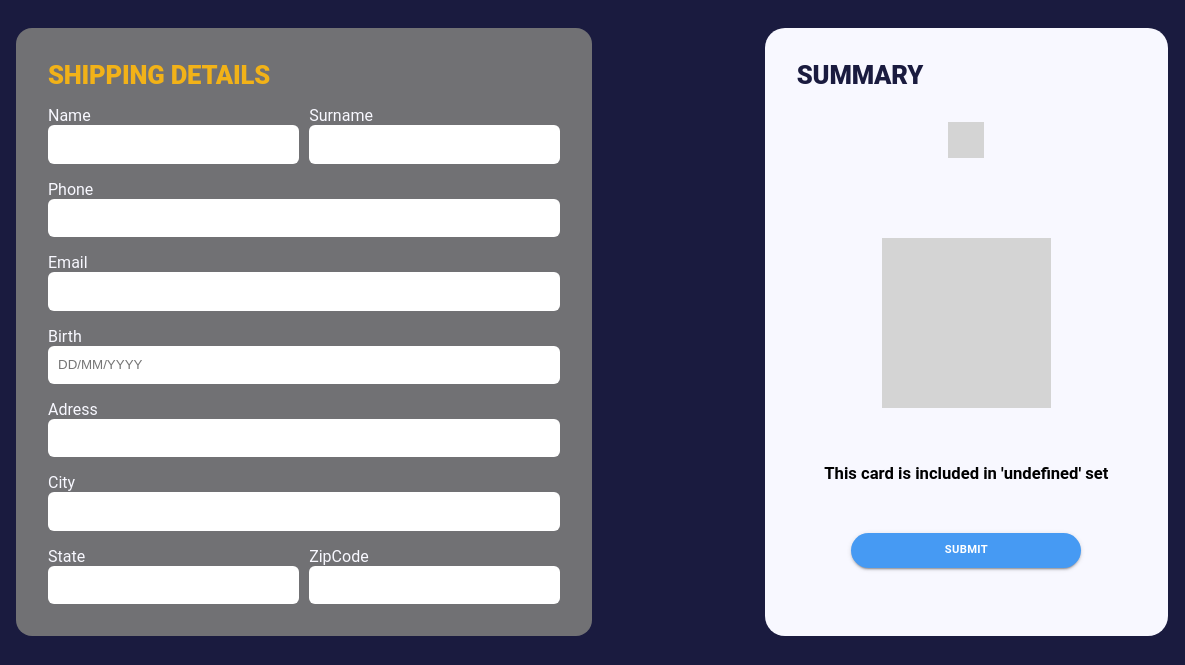
Scenario: form › validation › zipCode › shows error when zip code is not only numbers
Type "12345a" into the field labelled "zipCode" at x=435, y=585, box [309,566,560,604]
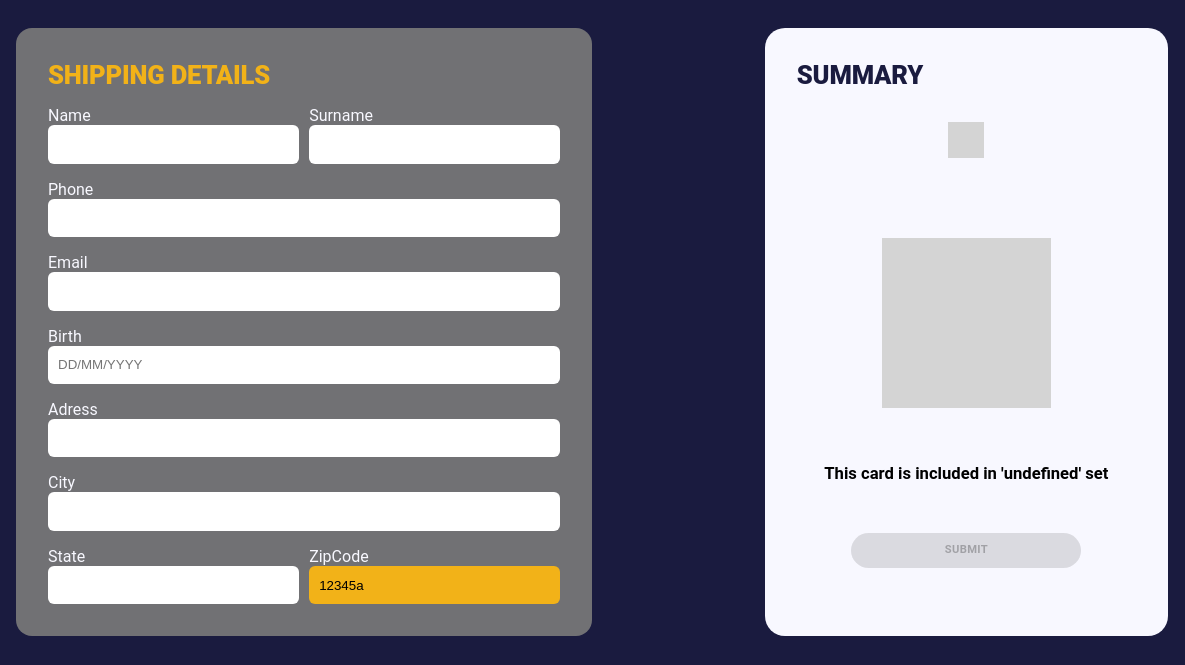
Press Tab
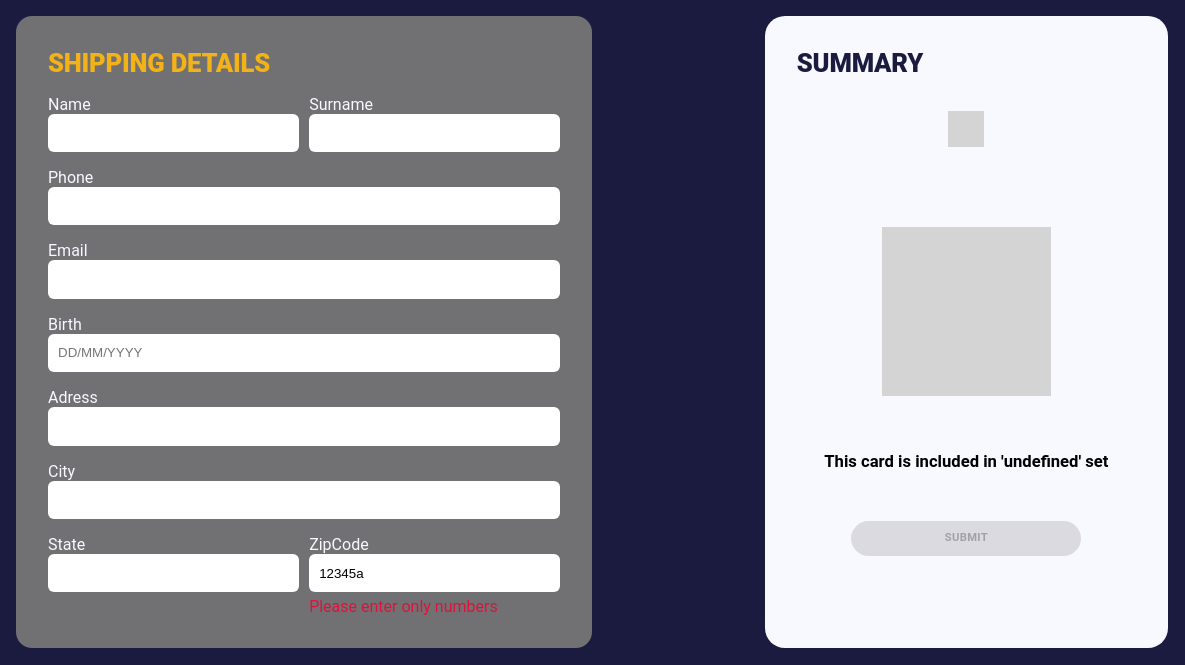
Expected: the text "Please enter only numbers" is shown, [309,597,498,616]
